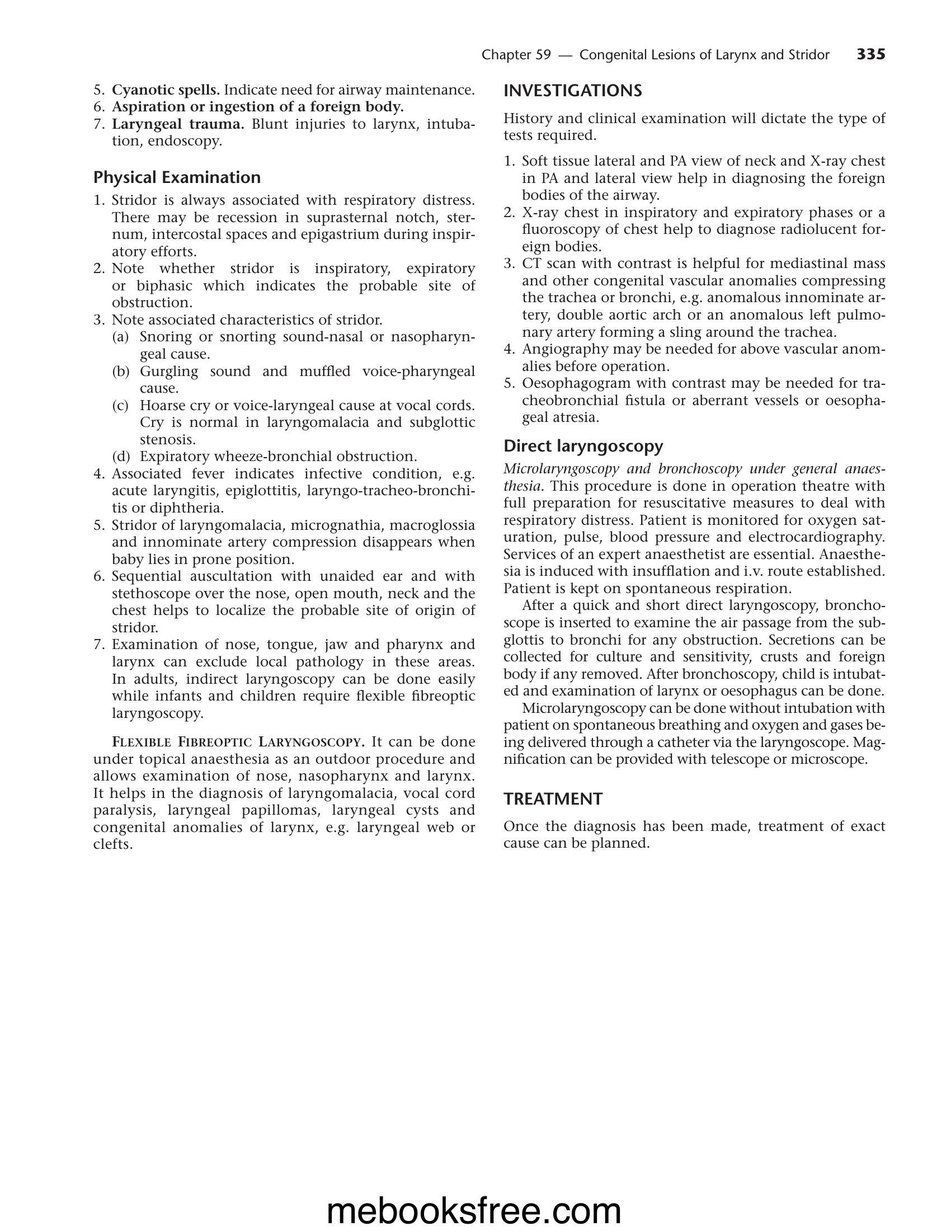header: (480, 47, 832, 64)
list: (91, 192, 476, 724), (502, 152, 888, 426), (111, 328, 476, 465), (92, 82, 476, 151)
sub-section-heading: (92, 168, 261, 189), (503, 437, 664, 457), (503, 82, 643, 98), (502, 790, 604, 807)
text: (501, 461, 887, 769), (92, 735, 477, 851), (503, 819, 887, 854), (502, 111, 887, 145)
